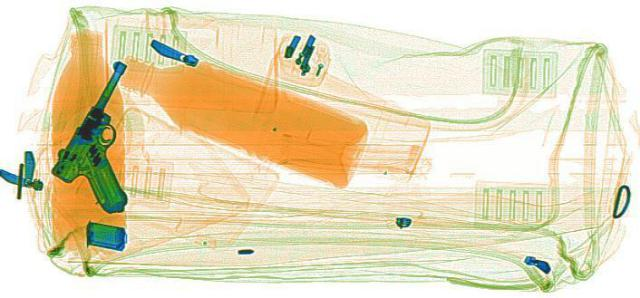Gun: (36, 58, 176, 211)
